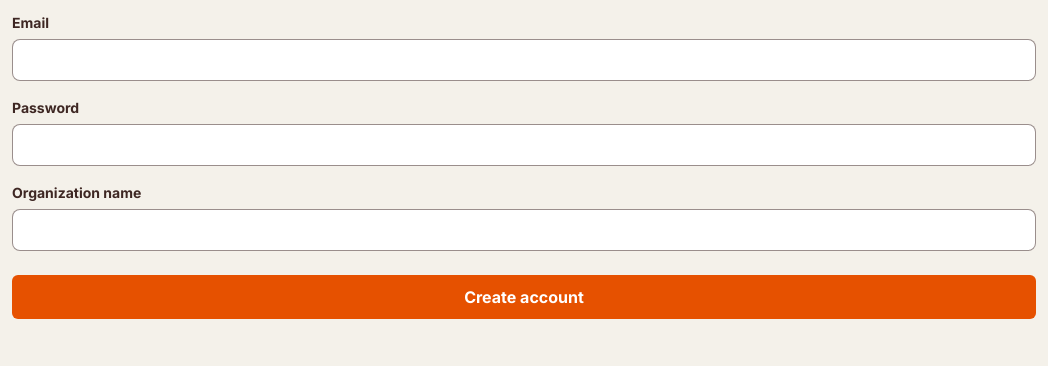
RegisterForm › shows a required error for a blank organization name (C4)
Type "owner@example.com" into the field labelled "Email" at point(524, 60), box [12,39,1036,81]
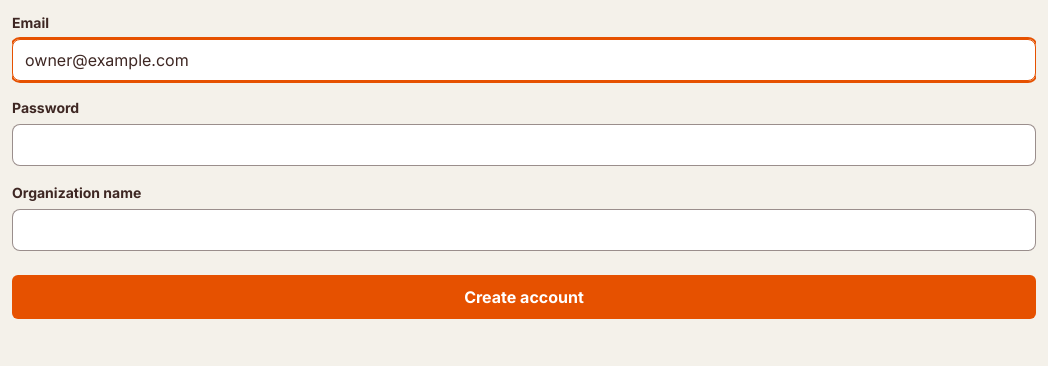
Type "Password1" into the password field labelled "Password" at point(524, 145), box [12,124,1036,166]
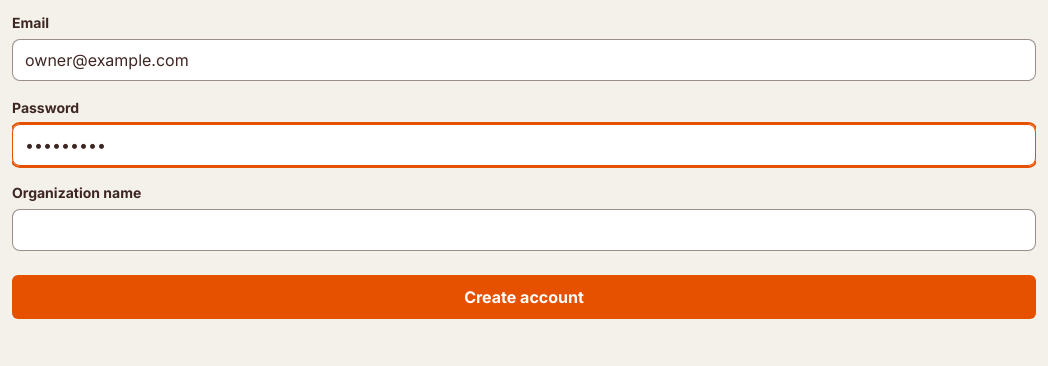
Click the button "Create account" at point(524, 297), box [12,275,1036,319]
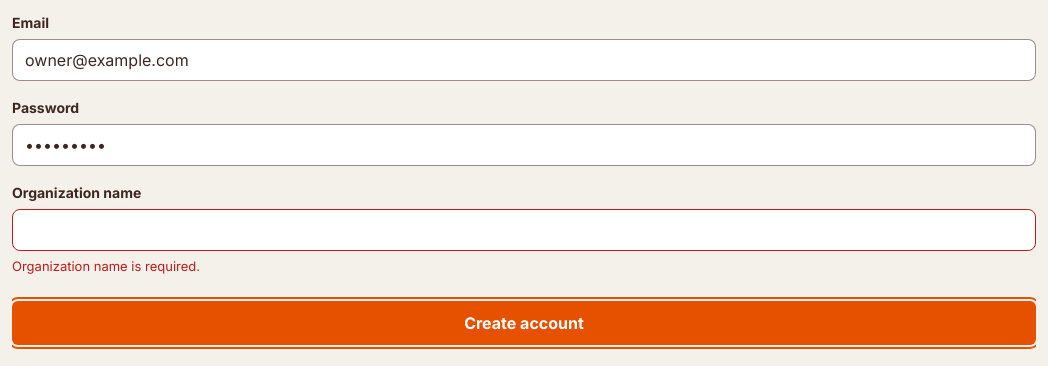
Expected: the text "Organization name is required." is shown, [12,258,200,274]
